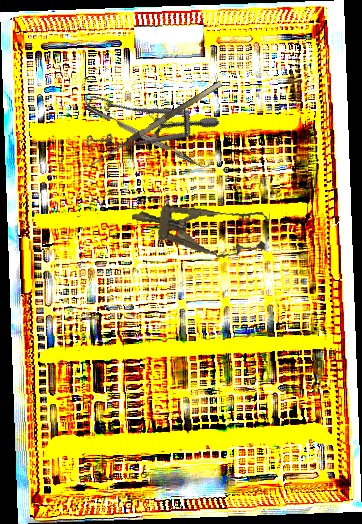Chopper: (85, 98, 213, 174)
Hook Surgical: (87, 80, 227, 176)
Speculum: (67, 48, 220, 182), (128, 190, 271, 264)
